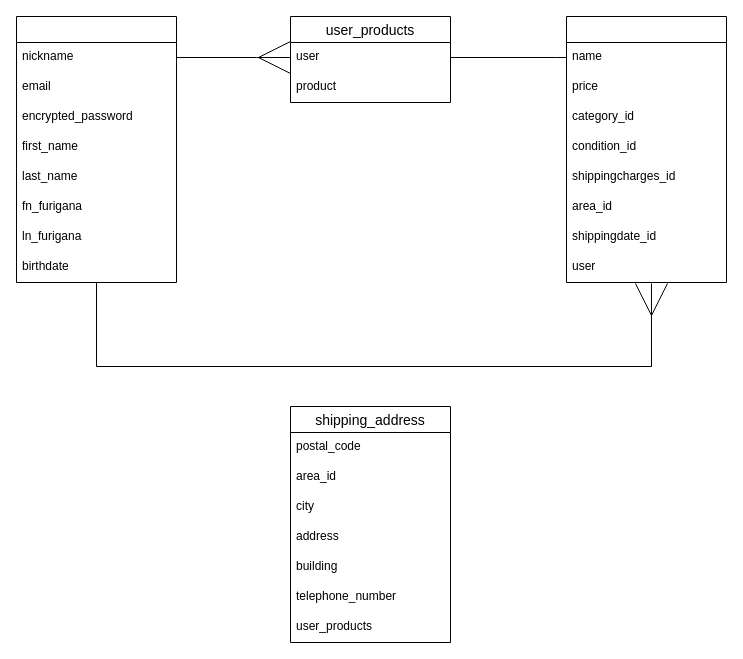
The diagram is 743 pixels wide and 659 high, and some of its shapes have lost their labels. The shapes that lost their labels are listed below. From the top down, each one's box as (x1, y1, x2, y2) in pixels, then its label:
(16, 16, 176, 282): users
(566, 16, 726, 282): products
